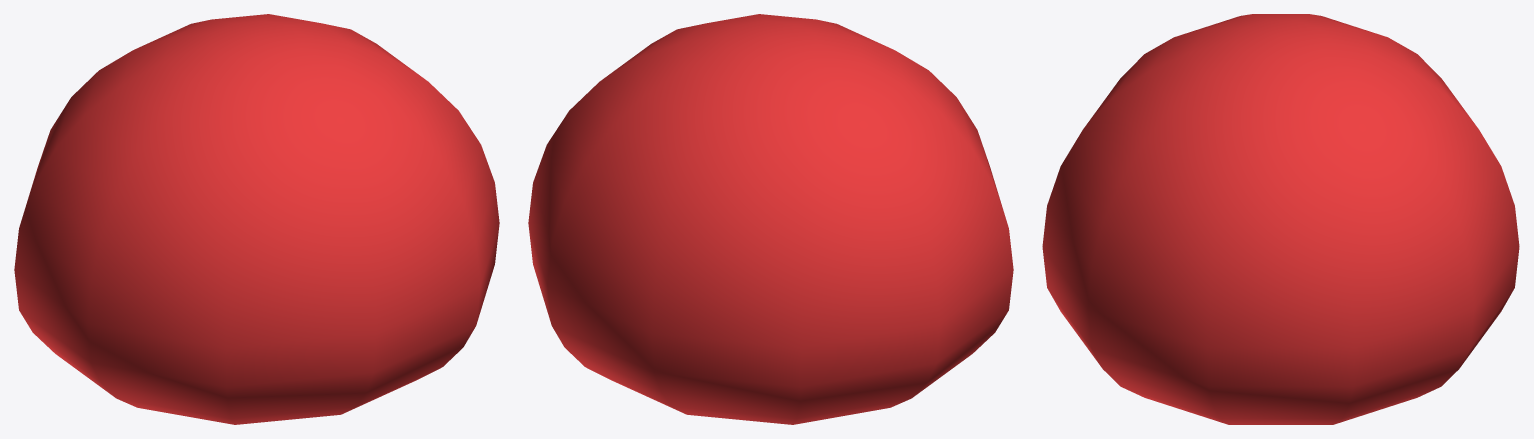
File: potchie bush.fbx
3 views of the same model, side by side, from view 1: azimuth 30°, elevation 25°; view 2: azimuth 150°, elevation 25°; view 3: azimuth 270°, elevation 25° (orthographic).
Visible parts, largest first — view 1: Sphere; view 2: Sphere; view 3: Sphere.
Boxes of the visible parts, bbox=[...] form: Sphere: bbox=[14, 14, 499, 424]; Sphere: bbox=[528, 14, 1013, 424]; Sphere: bbox=[1042, 14, 1519, 424].
Bounding box in the file's own units: 1.9 × 1.57 × 1.9.
